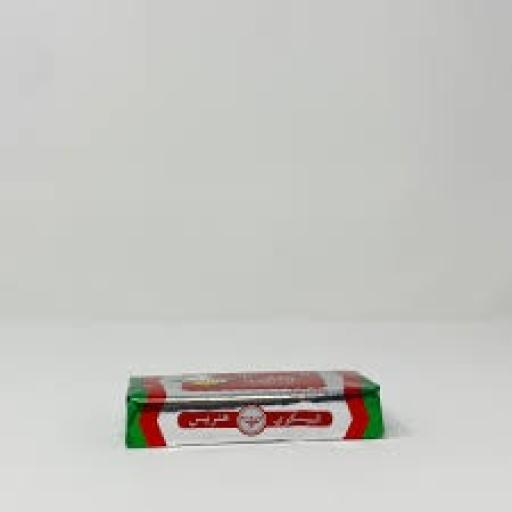henry-s: (60, 312, 432, 494)
